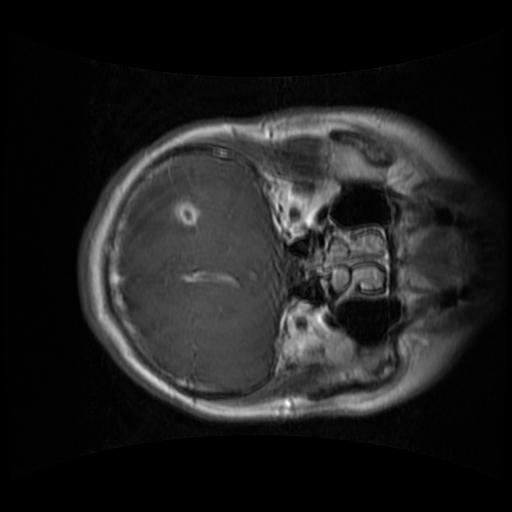glioma: (122, 161, 200, 252)
